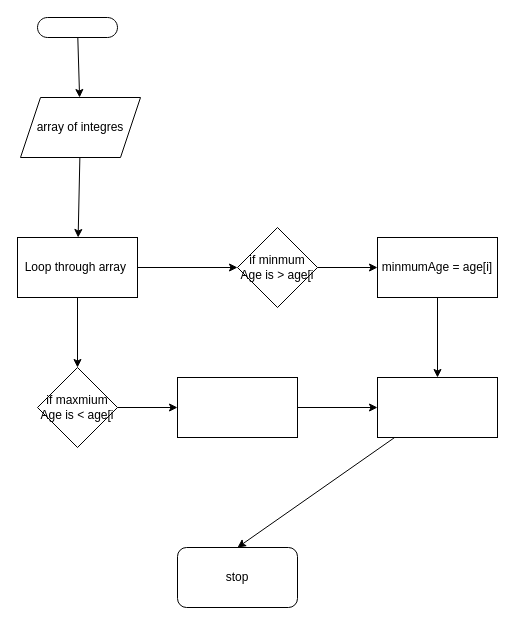
Image size: 515x625. Some labels were removed from this diagram. The centre of each missing label's shape, as x and y in pixels:
"ageRange = maximumAge - minmumAge" belongs at (x=437, y=407).
"maximumAge = age[i]" belongs at (x=237, y=407).
"start" belongs at (x=77, y=27).
